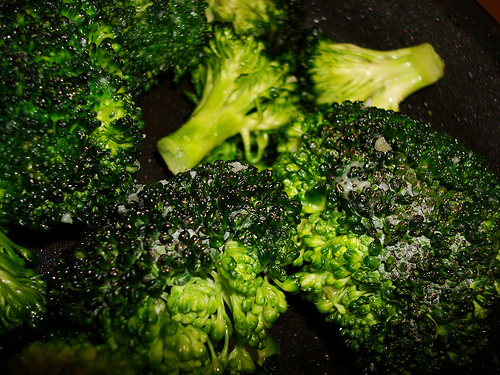broccoli: (282, 101, 499, 374)
